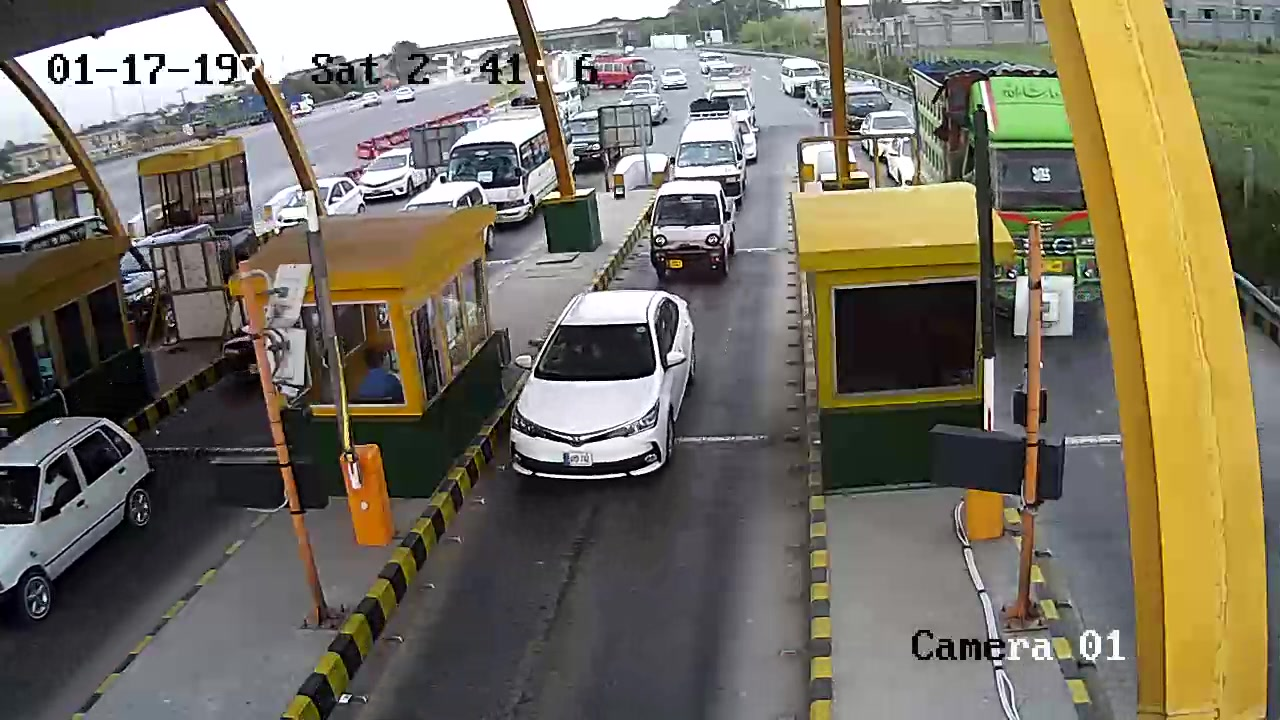F1: (500, 286, 711, 505)
